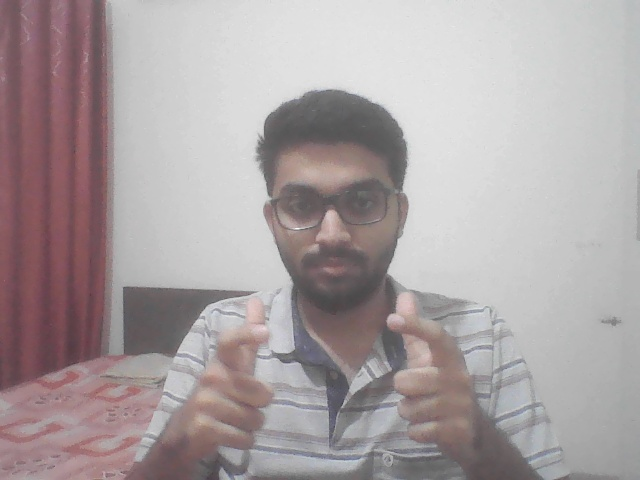big: (153, 288, 515, 474)
